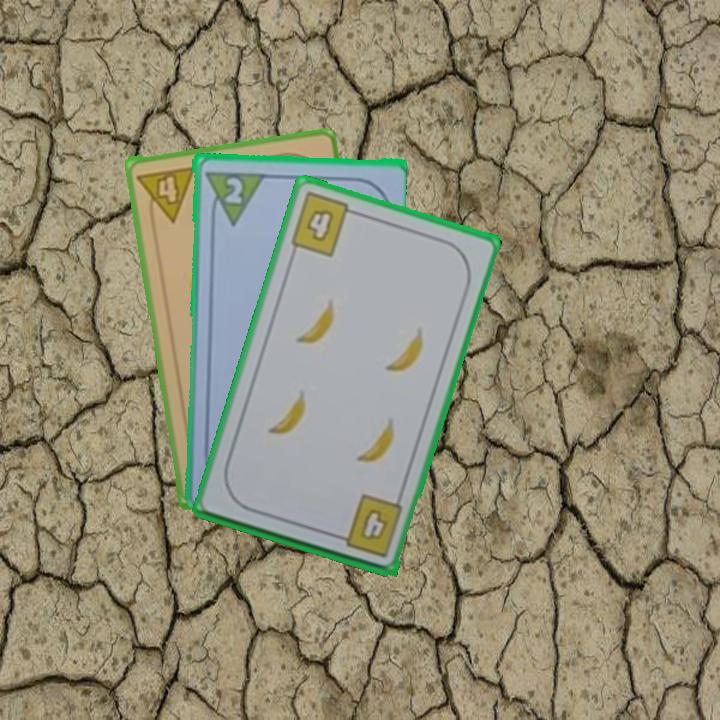2p: (201, 167, 265, 227)
4b: (287, 188, 362, 260), (330, 491, 406, 560)
4p: (134, 162, 199, 227)
